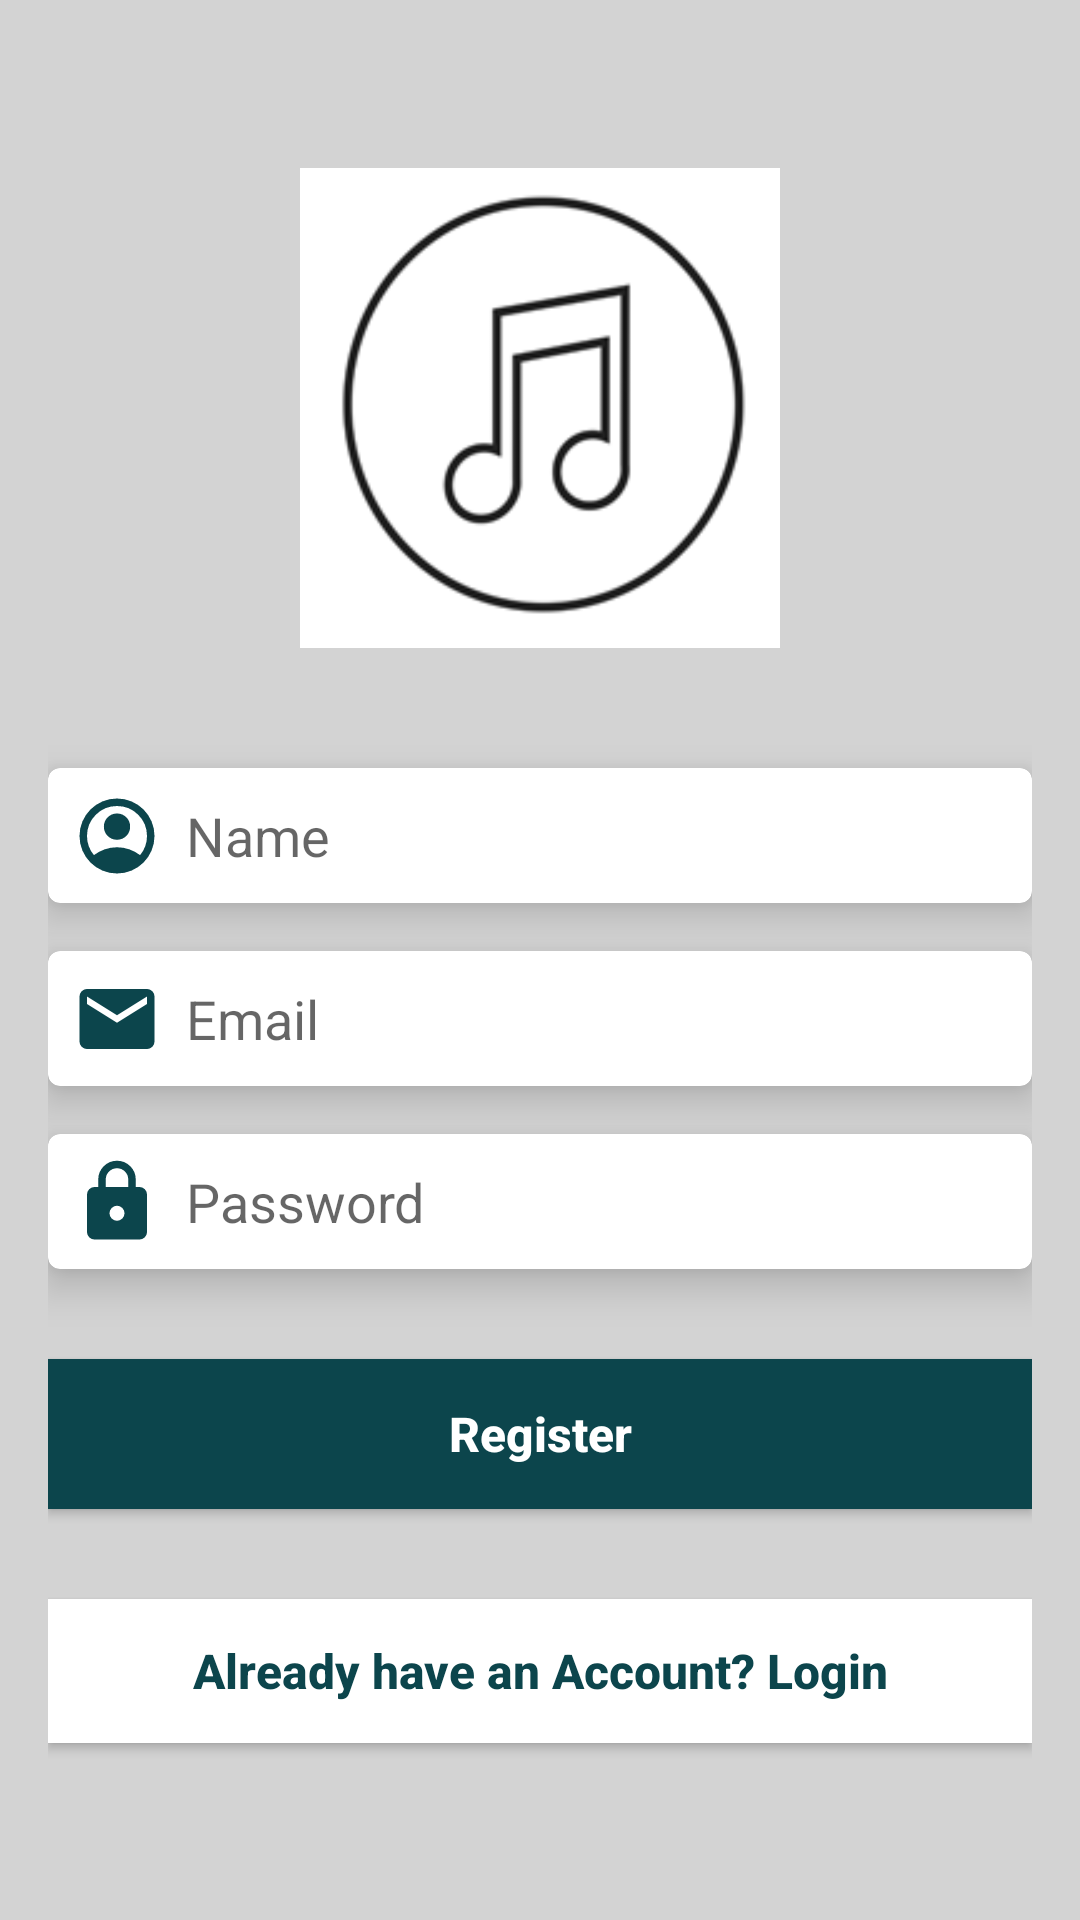

Point at icon controls on the screen. Image size 1080px×1920px, points as point (x, y).
lock: point (117, 1200)
person circle: point (117, 836)
